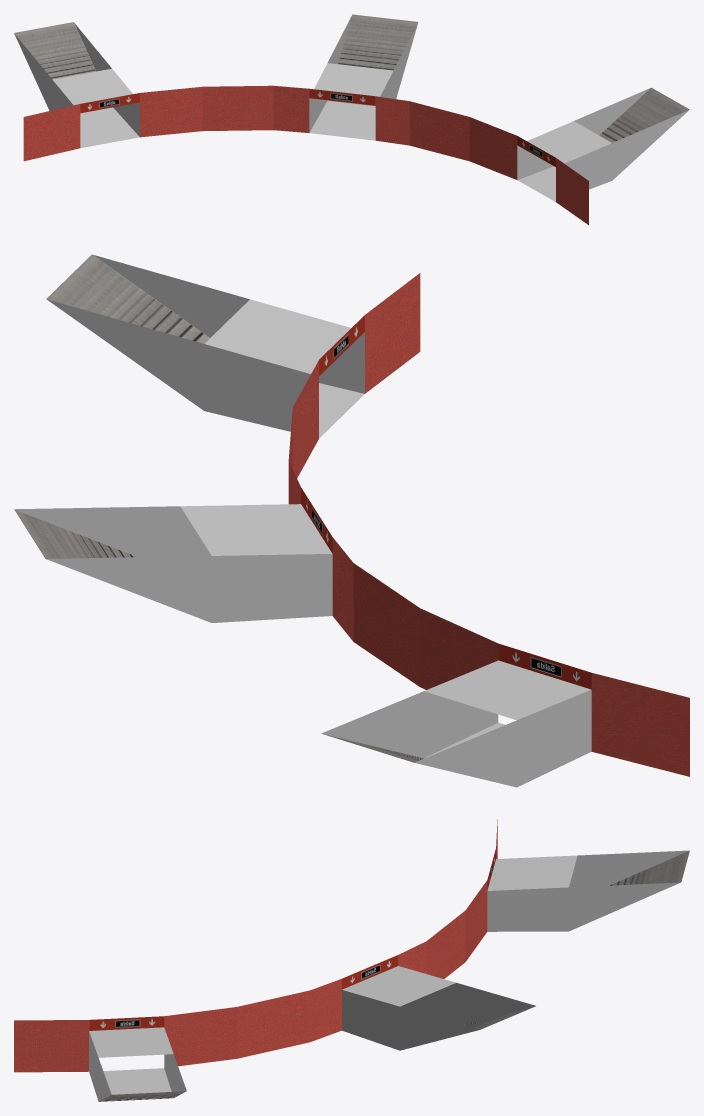
The model's file is ESTADIO_muroGradasEsquina.FBX.
3 renders of one model, top to bottom at view 1: azimuth 30°, elevation 25°; view 2: azimuth 150°, elevation 25°; view 3: azimuth 270°, elevation 25°, orthographic. The views are drawn at different scales.
Parts seen in each view (by area): view 1: ESTADIO_muroGradasEsquina; view 2: ESTADIO_muroGradasEsquina; view 3: ESTADIO_muroGradasEsquina.
Boxes of the visible parts, x1,y1,x2,y2 form: ESTADIO_muroGradasEsquina: (14, 14, 689, 224); ESTADIO_muroGradasEsquina: (14, 254, 689, 787); ESTADIO_muroGradasEsquina: (14, 819, 689, 1101).
Bounding box in the file's own units: 4722 × 454 × 4720.
